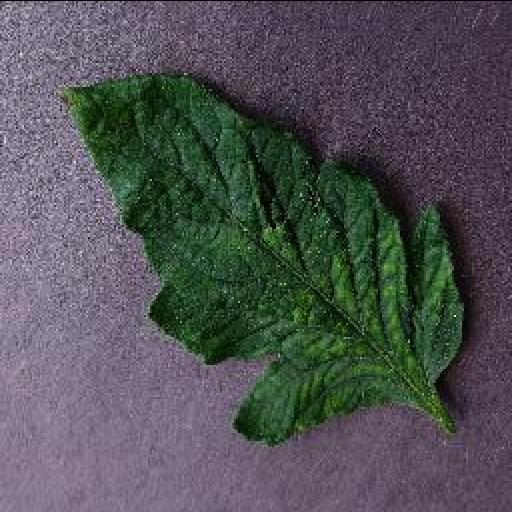Mosaic Virus: (61, 73, 465, 442)
